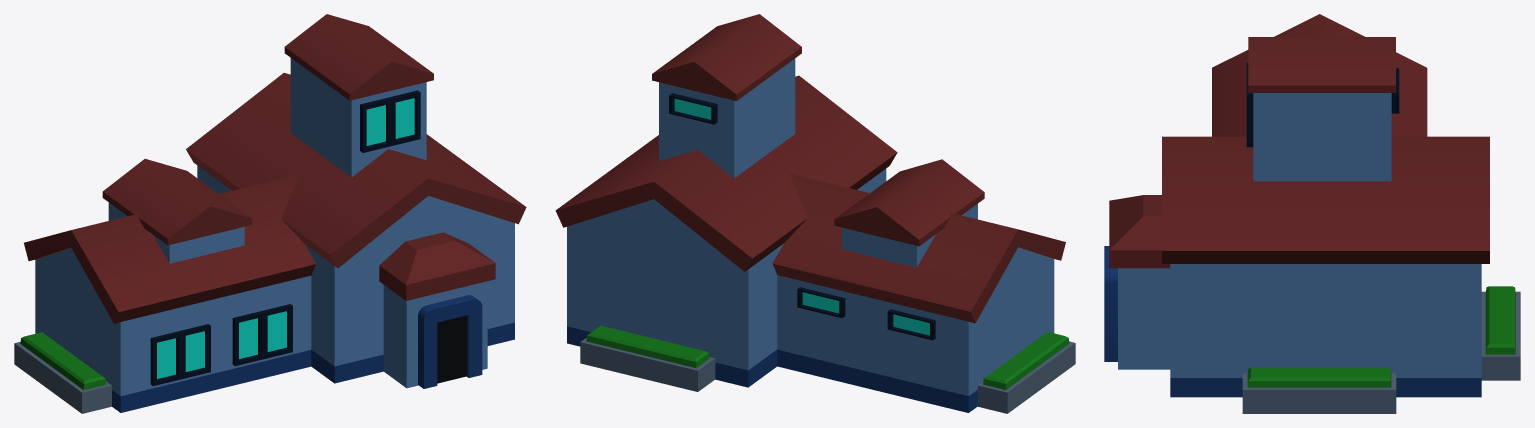
File: House_10.fbx
3 views of the same model, side by side, from view 1: azimuth 30°, elevation 25°; view 2: azimuth 150°, elevation 25°; view 3: azimuth 270°, elevation 25° (orthographic). The views are drawn at different scales.
Visible parts, largest first — view 1: House_10; view 2: House_10; view 3: House_10.
Part boxes in pixels (left/top/right/bottom): House_10: left=14, top=14, right=526, bottom=413; House_10: left=555, top=14, right=1075, bottom=413; House_10: left=1104, top=14, right=1520, bottom=413.
Bounding box in the file's own units: 70.29 × 42.77 × 51.83.
